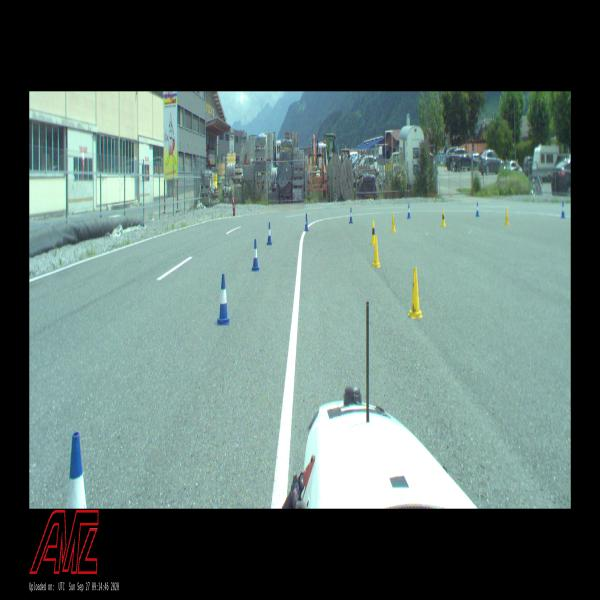blue_cone: (68, 432, 86, 508), (218, 274, 229, 326), (252, 240, 259, 272), (267, 222, 272, 245), (561, 201, 565, 218), (349, 208, 353, 224), (407, 204, 411, 219), (305, 213, 308, 231), (476, 202, 479, 217)
yellow_cone: (408, 268, 423, 318), (373, 236, 380, 268), (504, 207, 510, 226), (371, 221, 375, 245), (391, 213, 396, 232), (441, 209, 446, 227)
